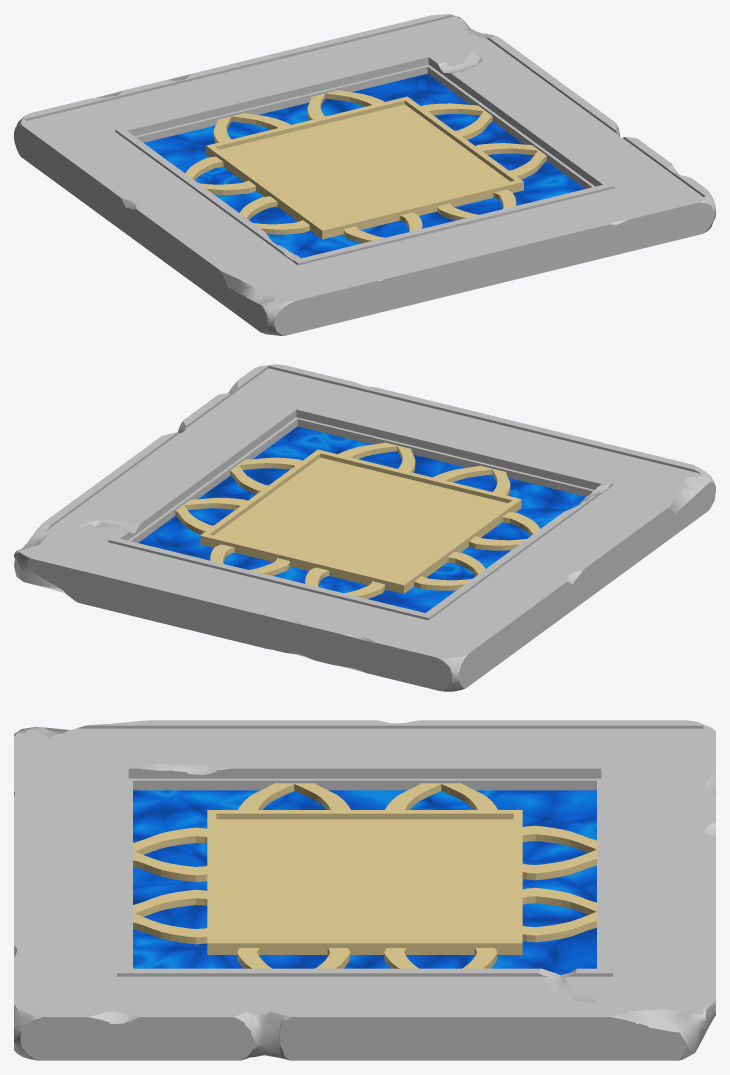
3 renders of one model, top to bottom at view 1: azimuth 30°, elevation 25°; view 2: azimuth 150°, elevation 25°; view 3: azimuth 270°, elevation 25°, orthographic. The views are drawn at different scales.
Parts seen in each view (by area): view 1: Cube.205_dmg.003; view 2: Cube.205_dmg.003; view 3: Cube.205_dmg.003.
Part boxes in pixels (bbox=[...]): Cube.205_dmg.003: bbox=[14, 14, 715, 335]; Cube.205_dmg.003: bbox=[14, 364, 715, 691]; Cube.205_dmg.003: bbox=[14, 720, 715, 1060].
Size of the model in its own units: 409 by 28.19 by 409.
